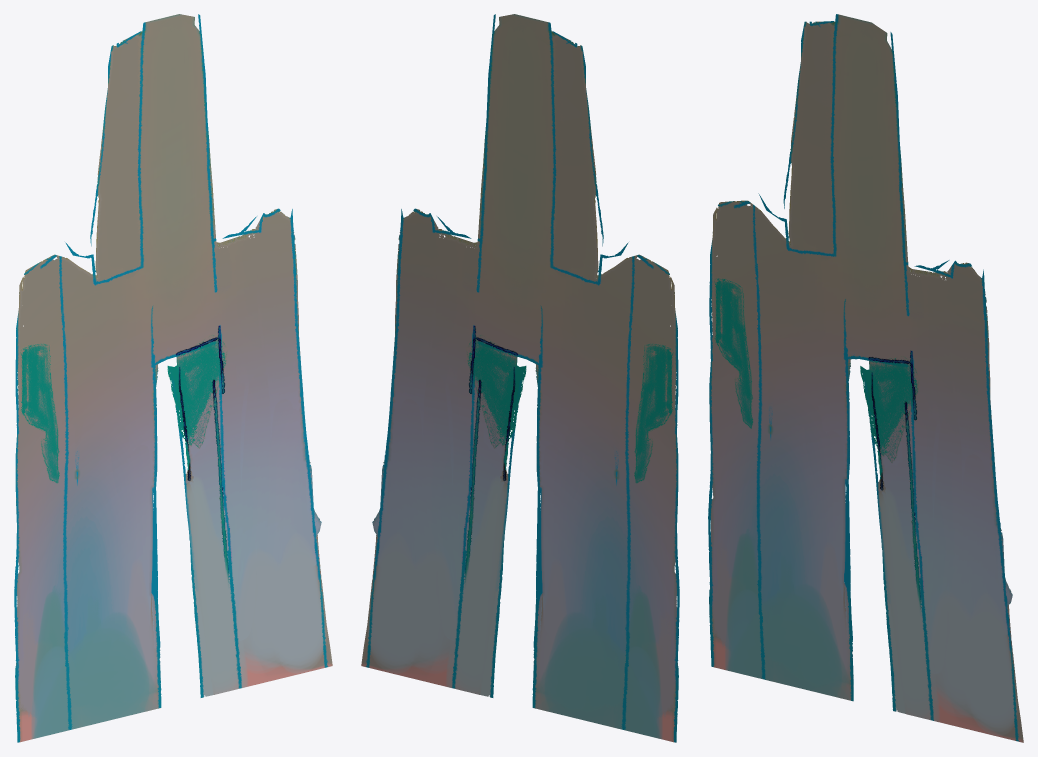
3 views of the same model, side by side, from view 1: azimuth 30°, elevation 25°; view 2: azimuth 150°, elevation 25°; view 3: azimuth 330°, elevation 25° (orthographic).
Visible parts, largest first — view 1: mask19; view 2: mask19; view 3: mask19.
Part boxes in pixels (x1,y1,x2,y2): mask19: (14, 14, 332, 742); mask19: (361, 14, 679, 742); mask19: (708, 14, 1023, 742).
Size of the model in its own units: 5.27 by 10.9 by 9.54e-09.
1 material, 1 textured.
